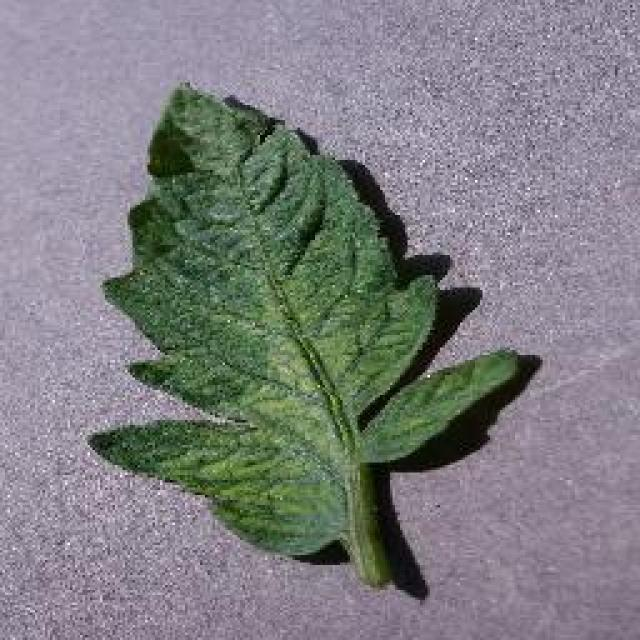Tomato spider mites leaf: (87, 76, 515, 556)
